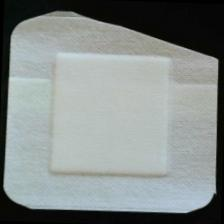Cut: (1, 7, 223, 222)
